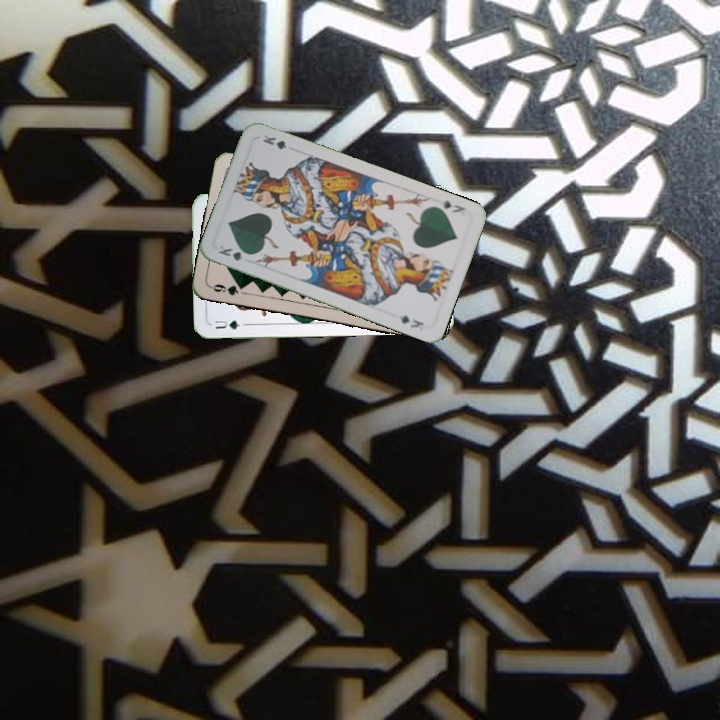G9: (206, 280, 248, 298)
GK: (215, 241, 254, 264), (436, 196, 468, 215)
GU: (211, 316, 242, 332)
